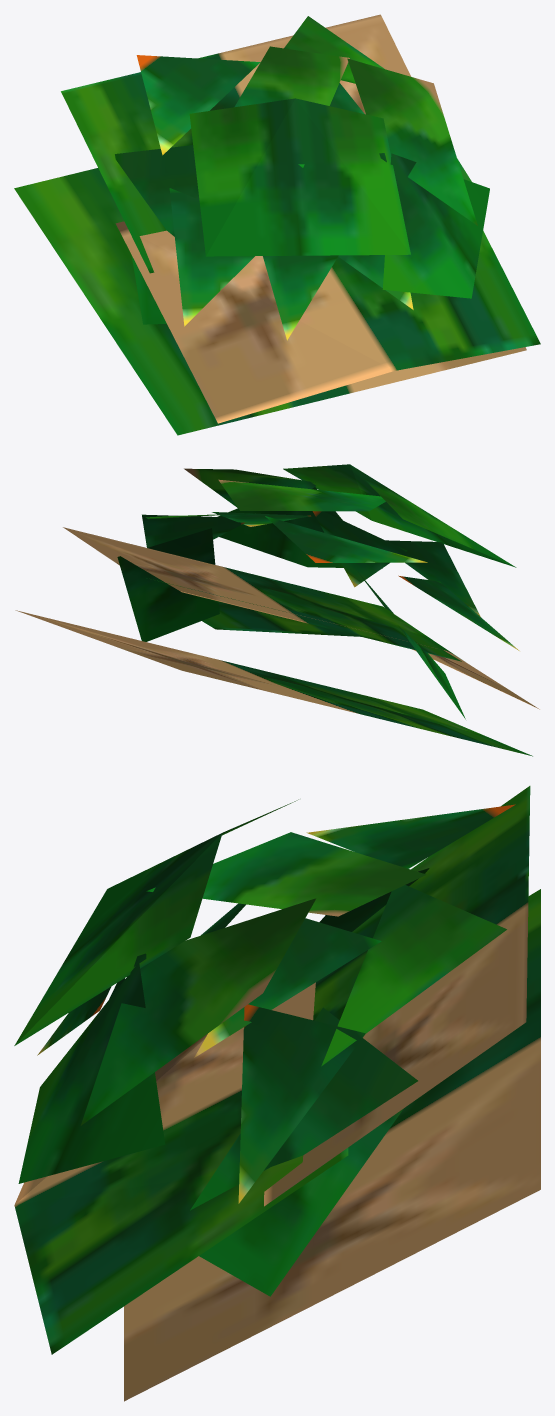
File: fg_bushC_2_pi.dae
3 renders of one model, top to bottom at view 1: azimuth 30°, elevation 25°; view 2: azimuth 150°, elevation 25°; view 3: azimuth 270°, elevation 25°, orthographic. The views are drawn at different scales.
Visible parts, largest first — view 1: fg_bushC_2_pi; view 2: fg_bushC_2_pi; view 3: fg_bushC_2_pi.
Boxes of the visible parts, x1=… form: fg_bushC_2_pi: x1=14, y1=14, x2=540, y2=435; fg_bushC_2_pi: x1=15, y1=464, x2=539, y2=756; fg_bushC_2_pi: x1=14, y1=786, x2=540, y2=1401.
Bounding box in the file's own units: 47.83 × 31.21 × 35.4.
Materials: 1 (1 with a texture image).
